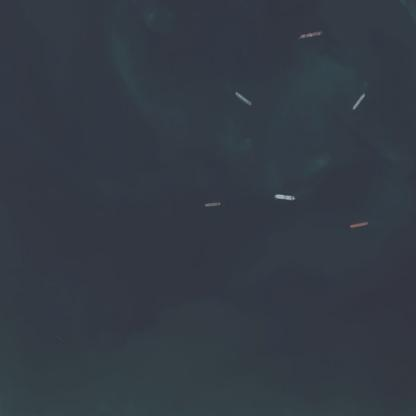ship: (226, 84, 258, 109), (346, 87, 371, 115), (294, 25, 328, 43), (341, 215, 372, 233), (269, 188, 298, 206), (197, 194, 225, 212)
